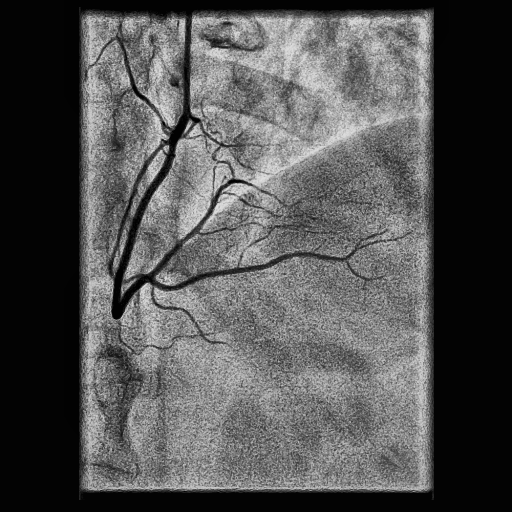pborca: (148, 179, 240, 277)
pda: (151, 252, 342, 292)
rca: (111, 112, 192, 319)
